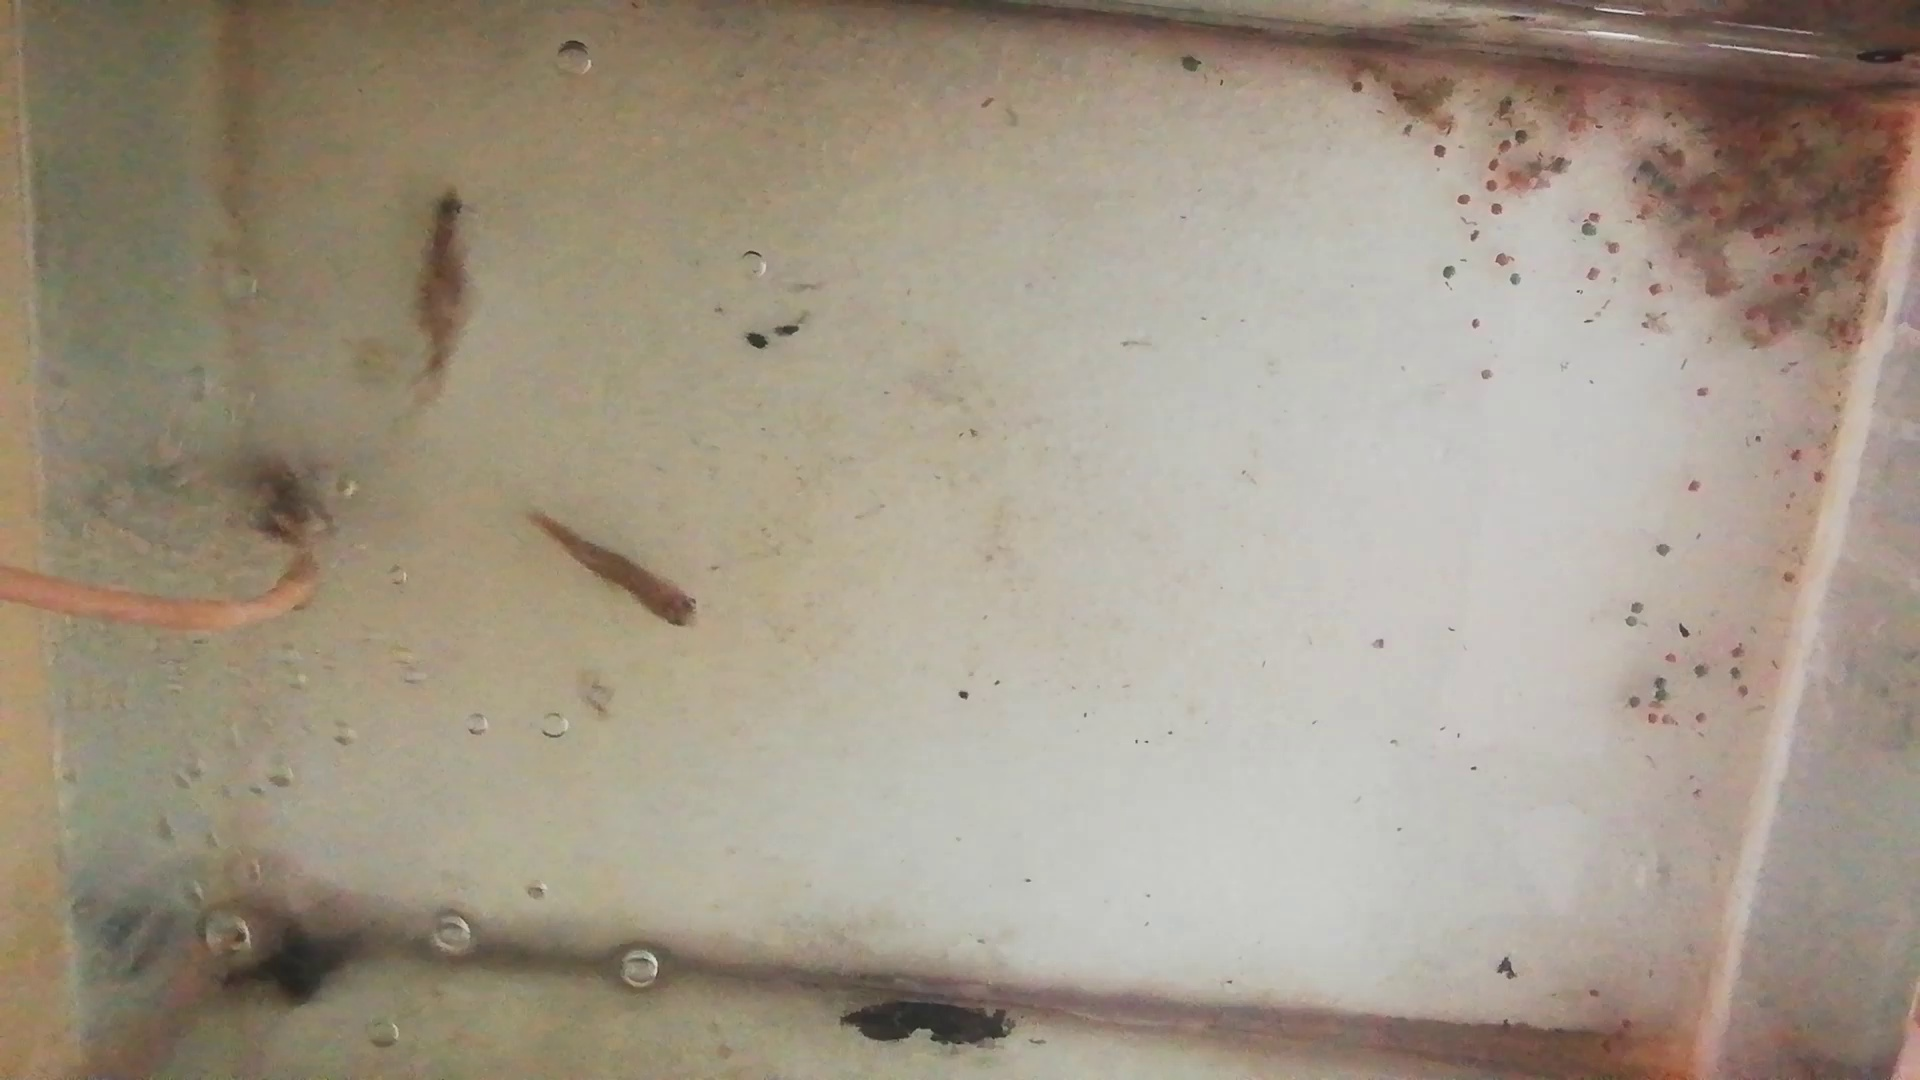fish: (520, 509, 698, 632), (411, 190, 473, 401)
